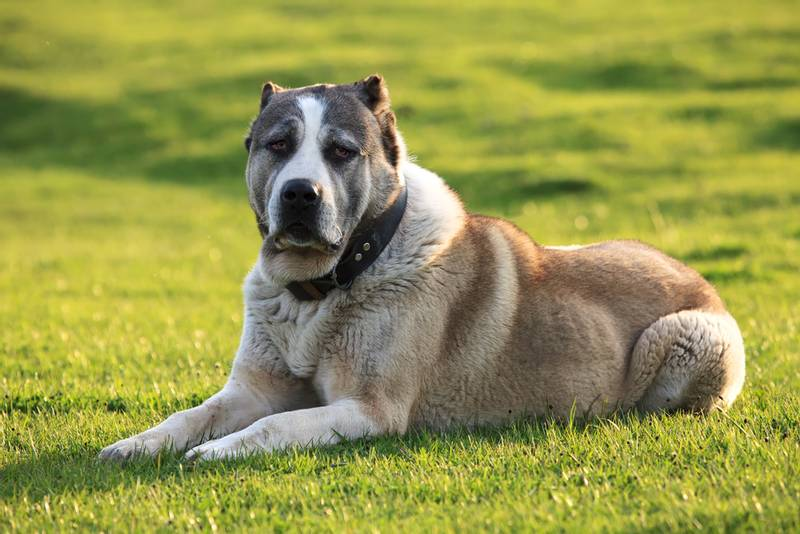dog: (109, 73, 757, 464)
